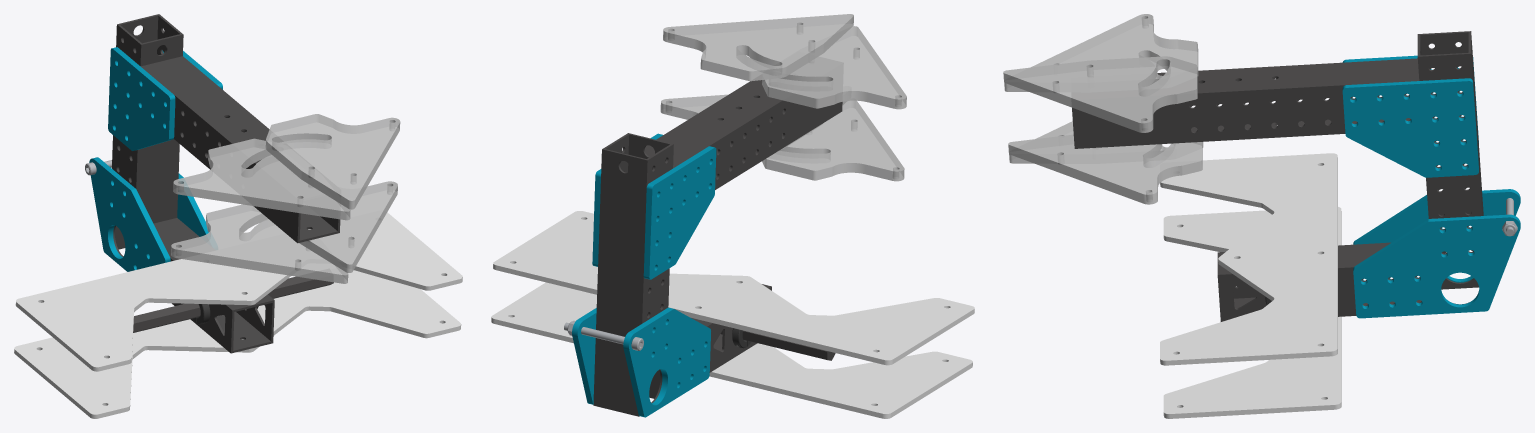
The picture shows the model from 3 angles, left to right: view 1: azimuth 30°, elevation 25°; view 2: azimuth 150°, elevation 25°; view 3: azimuth 270°, elevation 25°; orthographic projection. The views are drawn at different scales.
Visible parts, largest first — view 1: Part 4 (×2), Climb, Part 3 (×4); view 2: Climb, Part 4 (×2), Part 3 (×4), 60mm M6 SHCS; view 3: Climb, Part 4 (×2), Part 3 (×4).
Part boxes in pixels (x1=…): Part 4 (×2): x1=14, y1=212, x2=462, y2=418; Climb: x1=89, y1=14, x2=340, y2=353; Part 3 (×4): x1=171, y1=114, x2=400, y2=283; Climb: x1=572, y1=80, x2=842, y2=417; Part 4 (×2): x1=491, y1=211, x2=974, y2=418; Part 3 (×4): x1=660, y1=14, x2=906, y2=181; 60mm M6 SHCS: x1=564, y1=320, x2=643, y2=350; Climb: x1=1072, y1=31, x2=1520, y2=321; Part 4 (×2): x1=1160, y1=153, x2=1341, y2=418; Part 3 (×4): x1=1003, y1=14, x2=1203, y2=204.
Bounding box in the file's own units: 0.35 × 0.2286 × 0.3858.
